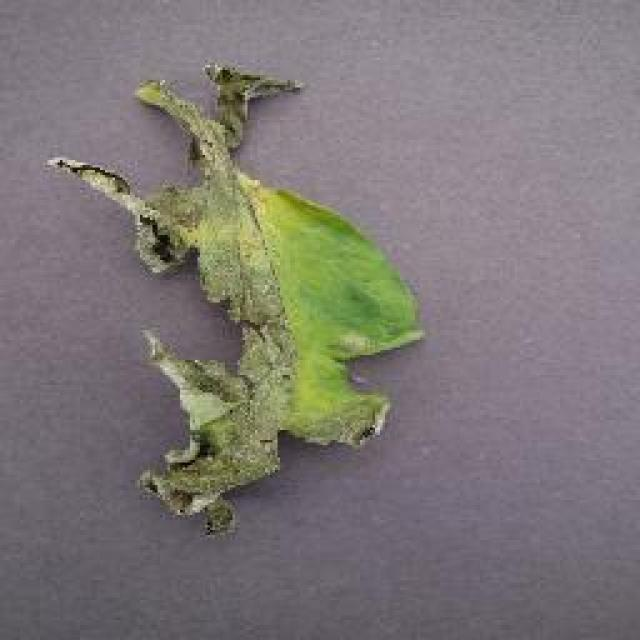Tomato late blight leaf: (49, 64, 416, 538)
